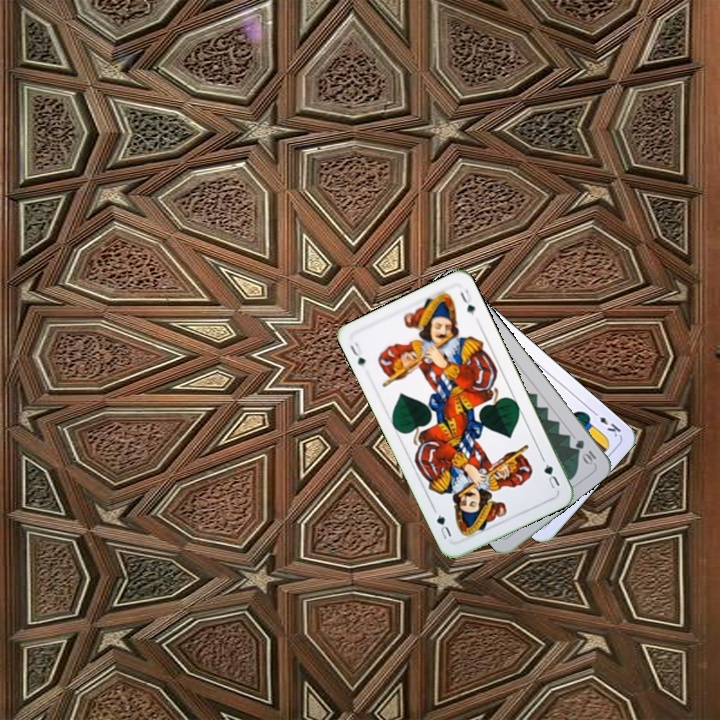EK: (588, 407, 623, 440)
G10: (571, 436, 599, 468)
GU: (540, 460, 563, 491), (346, 337, 368, 369)
